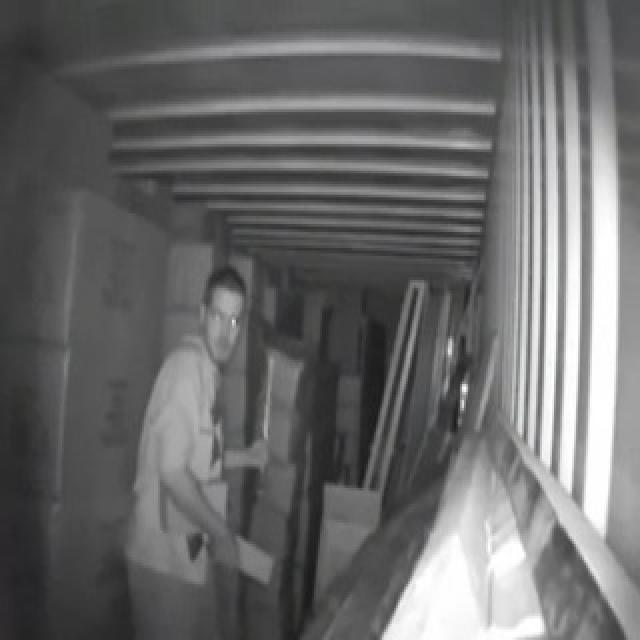thief: (122, 272, 278, 640)
